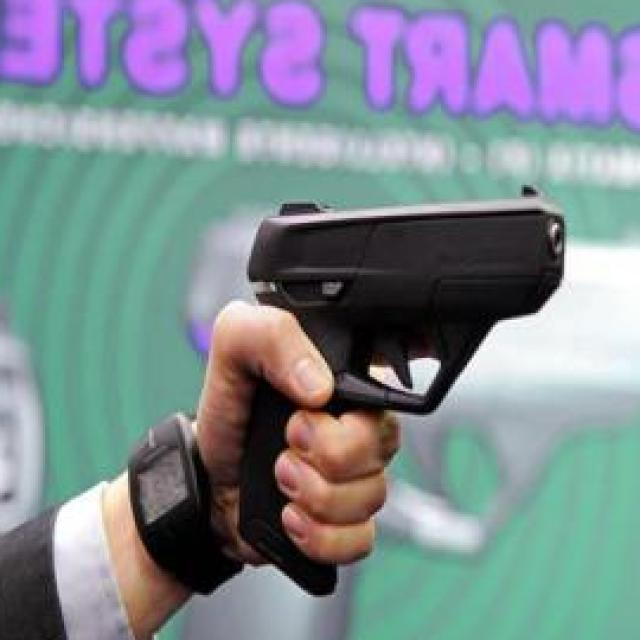pistol: (233, 170, 562, 604)
